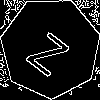Z: (25, 22, 76, 78)
